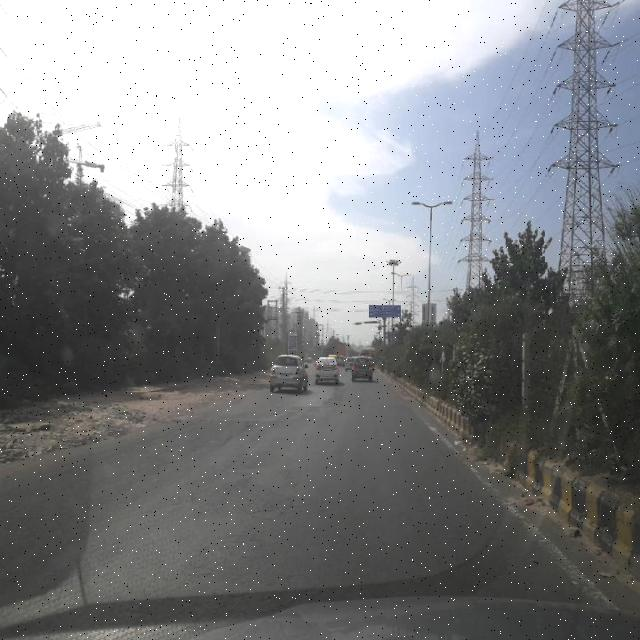D20: (0, 419, 573, 604)
D44: (453, 433, 598, 596)
